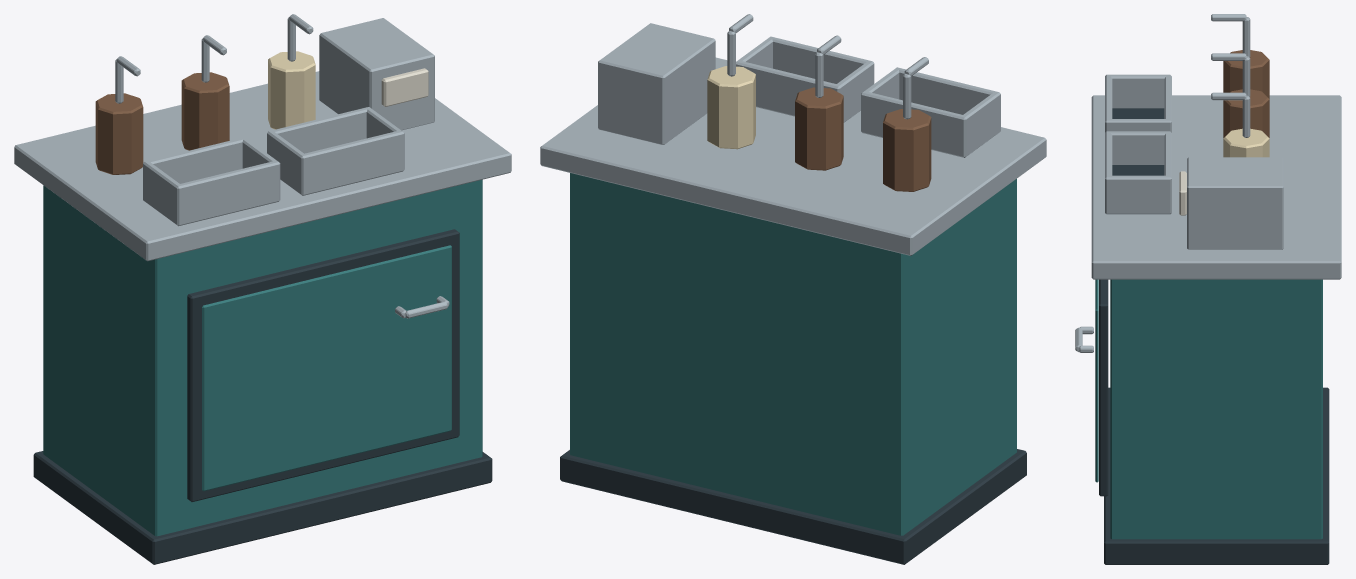
The model's file is b10_sidewalk_condiment_service_station.glb.
3 views of the same model, side by side, from view 1: azimuth 30°, elevation 25°; view 2: azimuth 150°, elevation 25°; view 3: azimuth 270°, elevation 25° (orthographic). The views are drawn at different scales.
Visible parts, largest first — view 1: b10_sidewalk_condiment_service_station; view 2: b10_sidewalk_condiment_service_station; view 3: b10_sidewalk_condiment_service_station.
Part boxes in pixels (left/top/right/bottom): b10_sidewalk_condiment_service_station: left=14, top=14, right=511, bottom=564; b10_sidewalk_condiment_service_station: left=540, top=14, right=1046, bottom=564; b10_sidewalk_condiment_service_station: left=1075, top=14, right=1341, bottom=564.
Size of the model in its own units: 1.06 by 1.23 by 0.7138.
